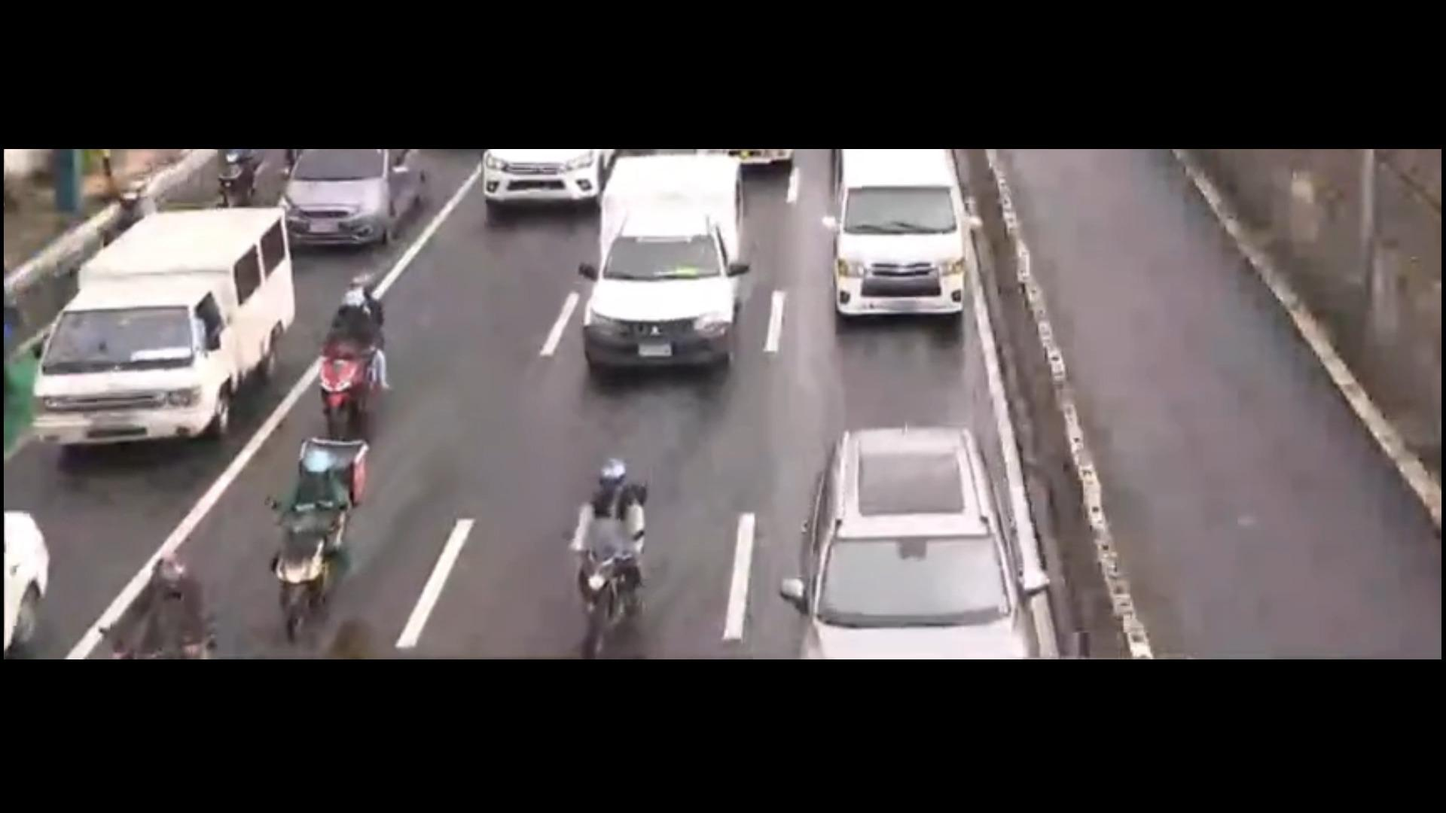Motorcycle: (254, 441, 396, 655), (540, 458, 688, 643), (281, 271, 418, 429), (215, 138, 264, 212)
Multicab: (18, 192, 309, 470), (542, 138, 769, 383)
SUV: (783, 413, 1058, 649)
Van: (799, 142, 985, 343)
